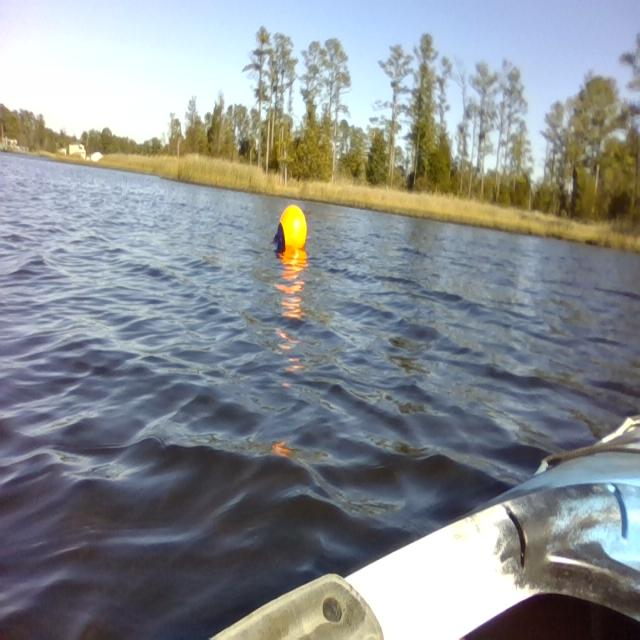Buoy: (270, 202, 314, 260)
